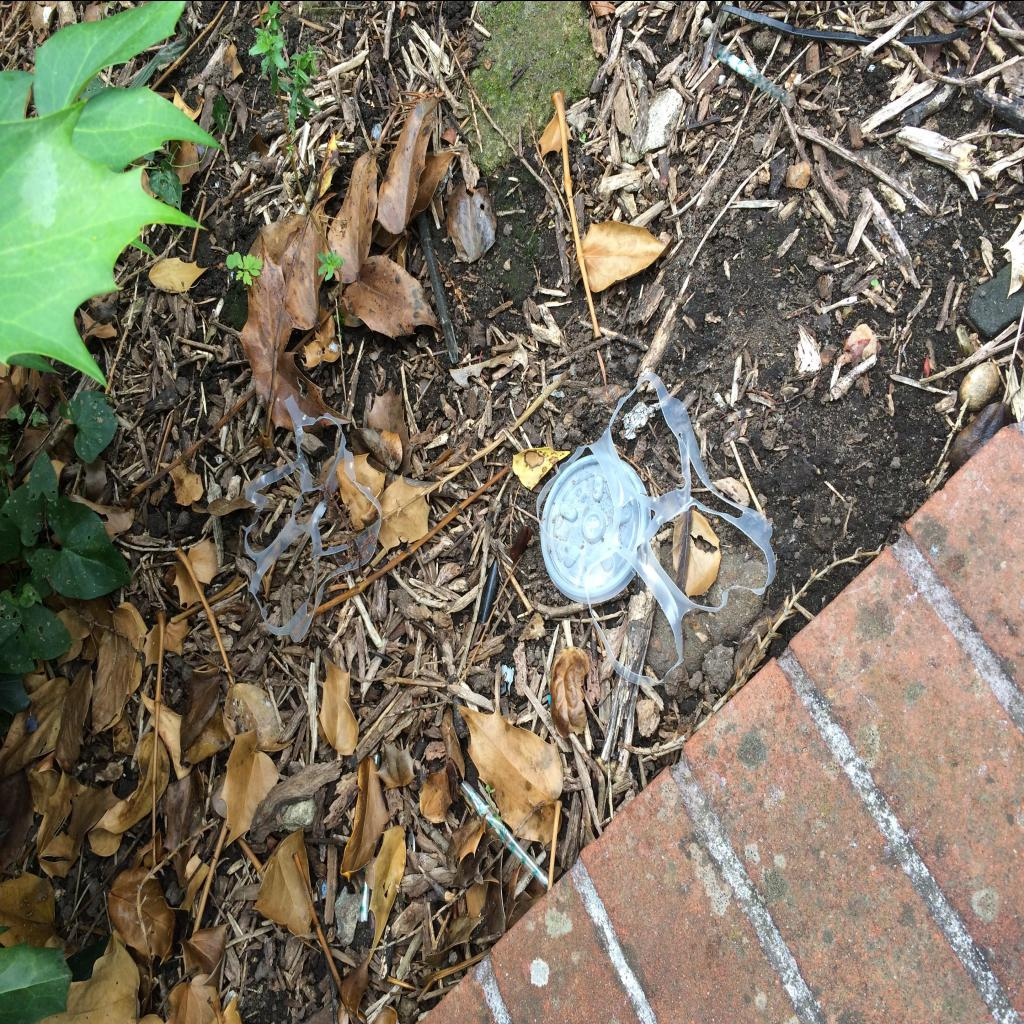Aluminium foil: (622, 400, 660, 438)
Plastic film: (460, 780, 548, 889), (712, 41, 795, 107), (360, 864, 370, 921)
Plastic lid: (541, 453, 651, 603)
Six pack rings: (536, 372, 776, 685), (244, 394, 382, 642)
Unlabeled litter: (416, 210, 458, 362), (477, 558, 499, 622)
